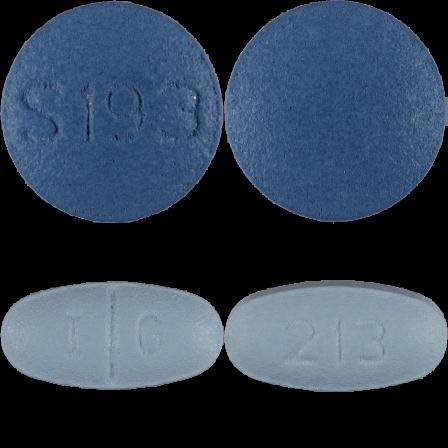52959-852: (0, 0, 224, 224)
